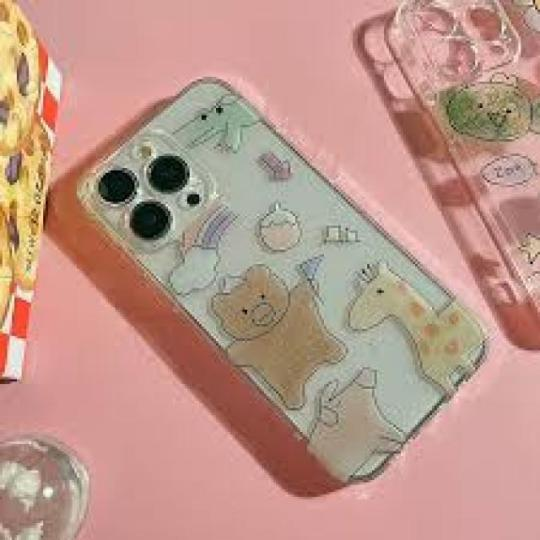phone: (65, 63, 497, 495)
